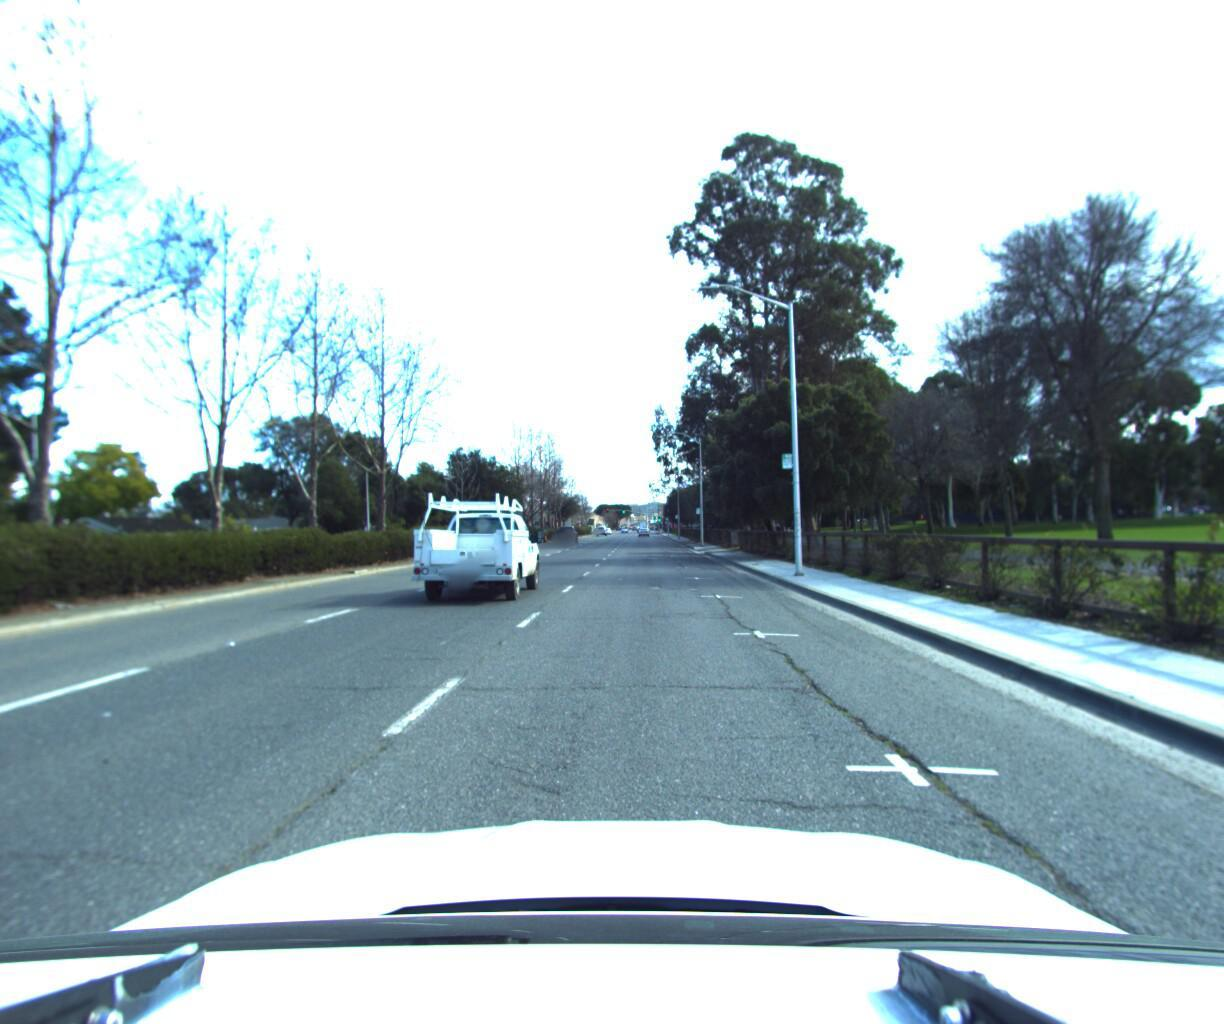car: (412, 486, 550, 606), (559, 522, 583, 541)
